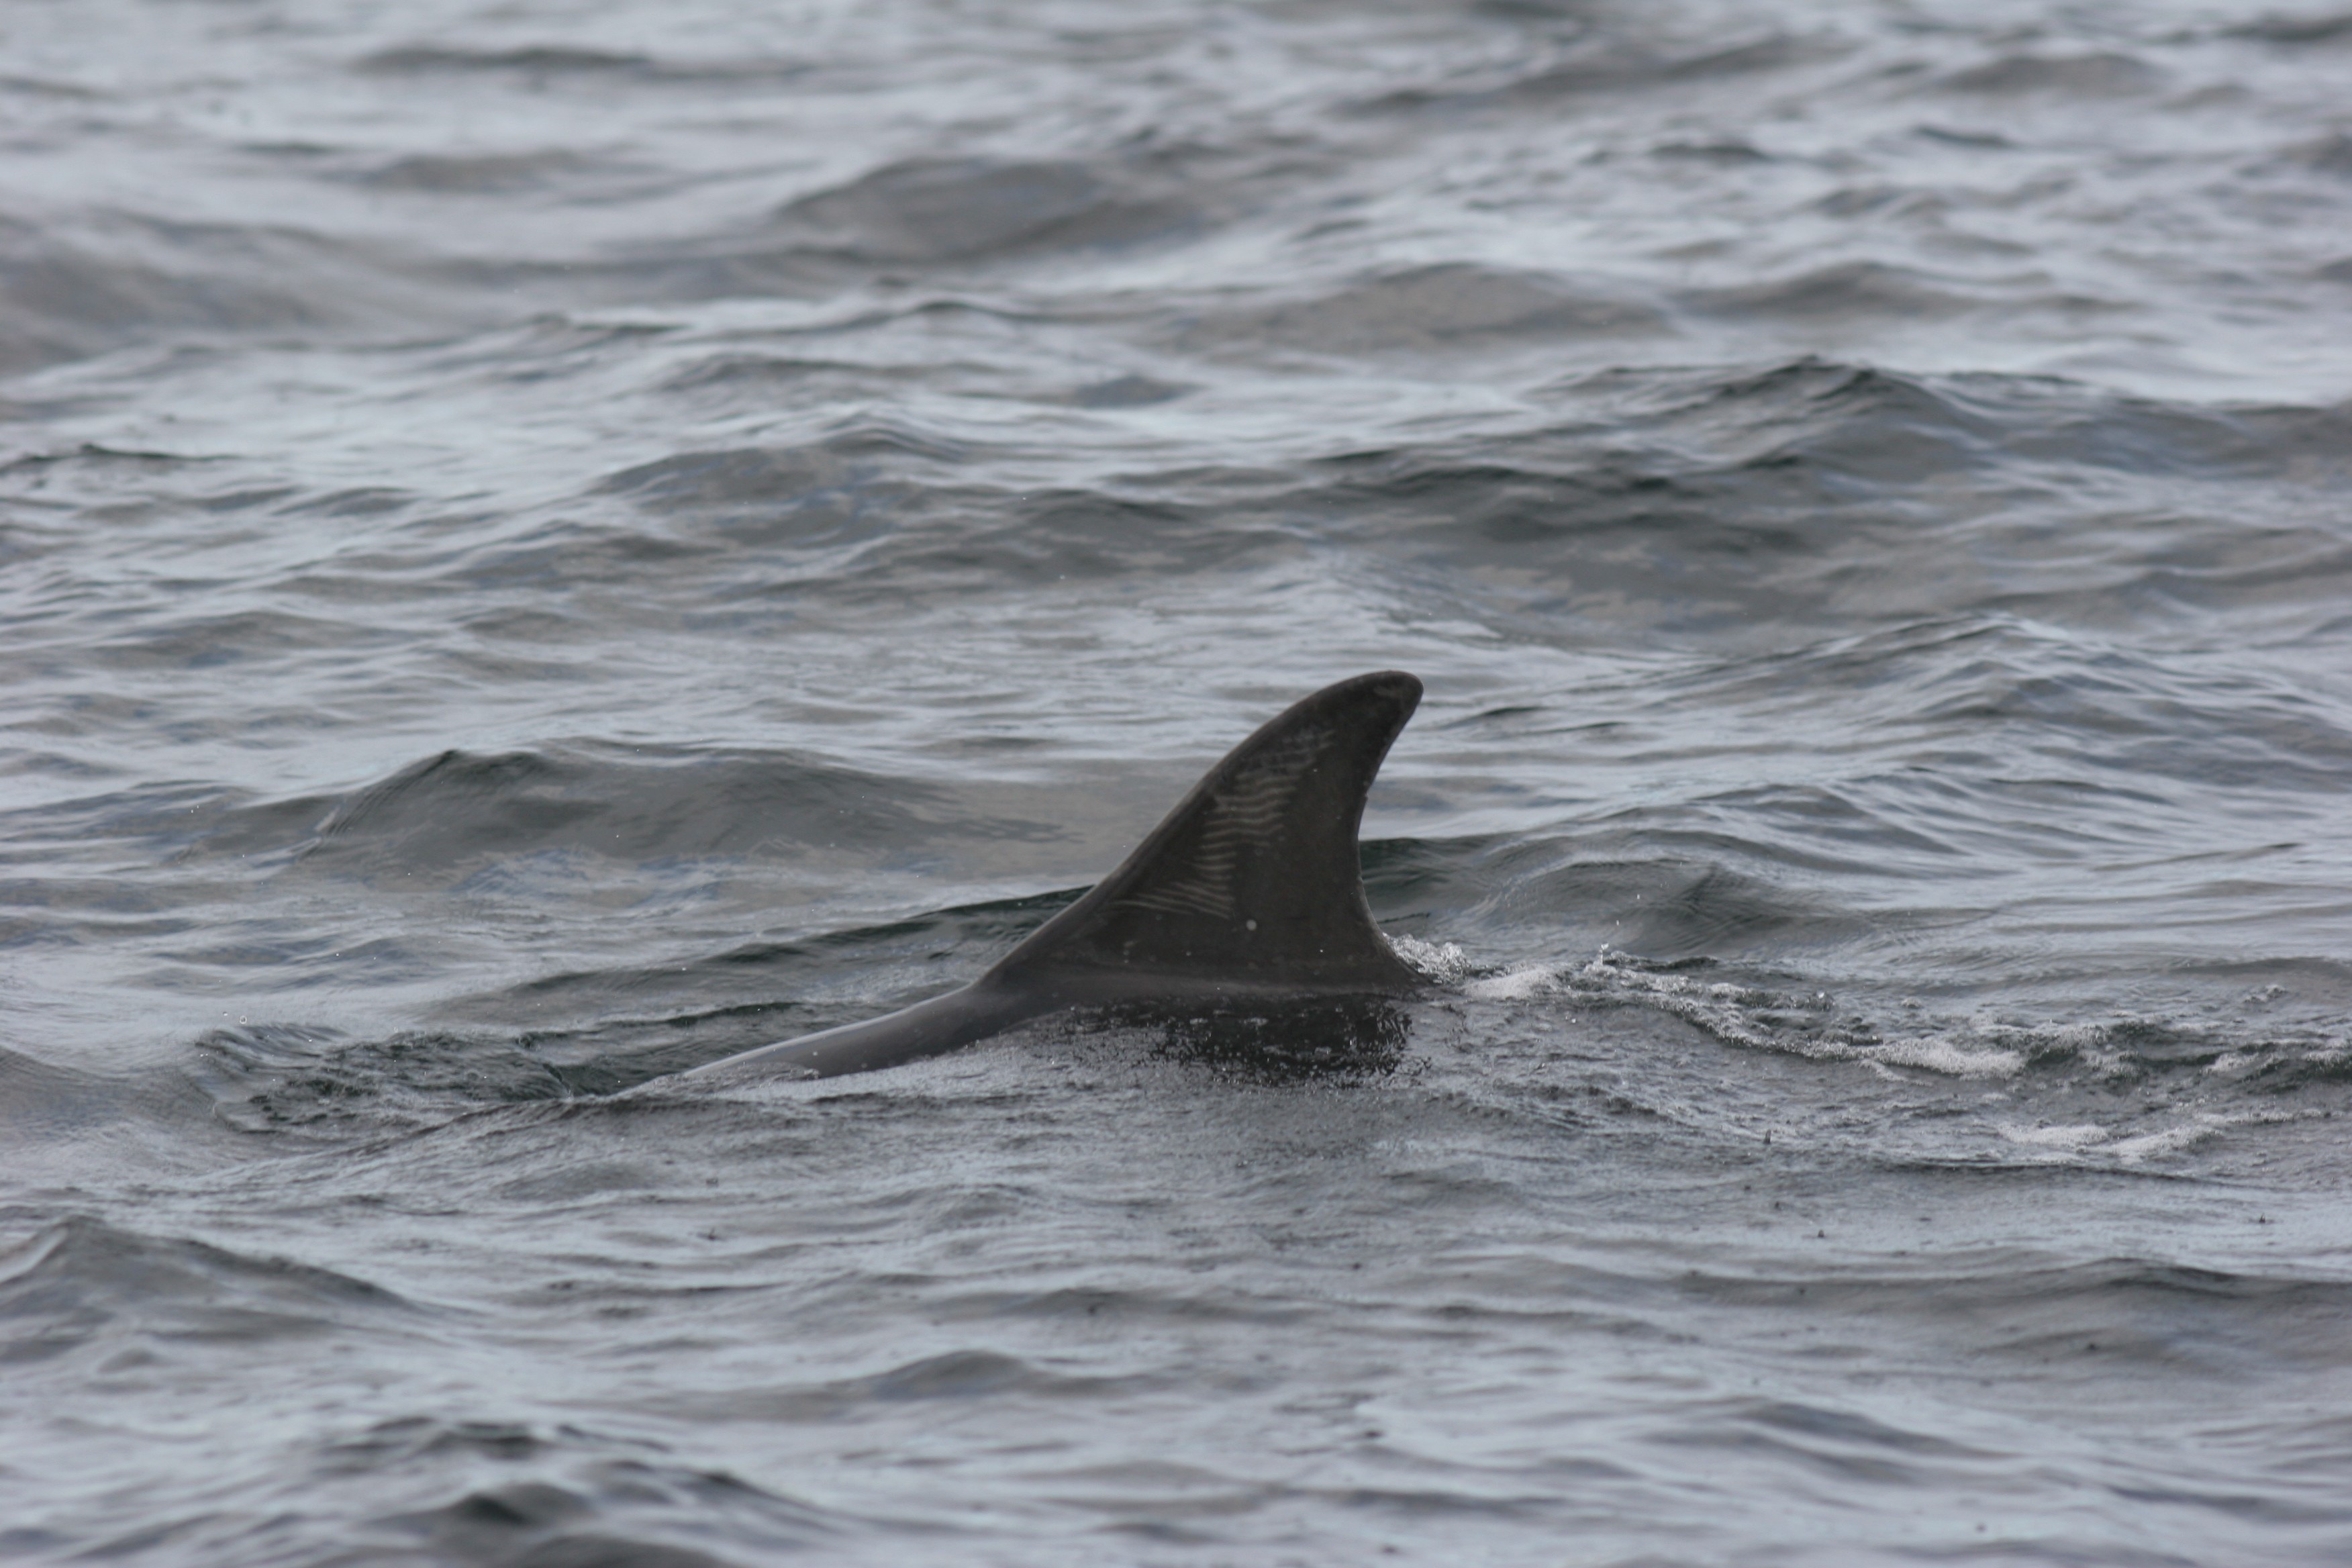fin: (845, 504, 1626, 1159)
